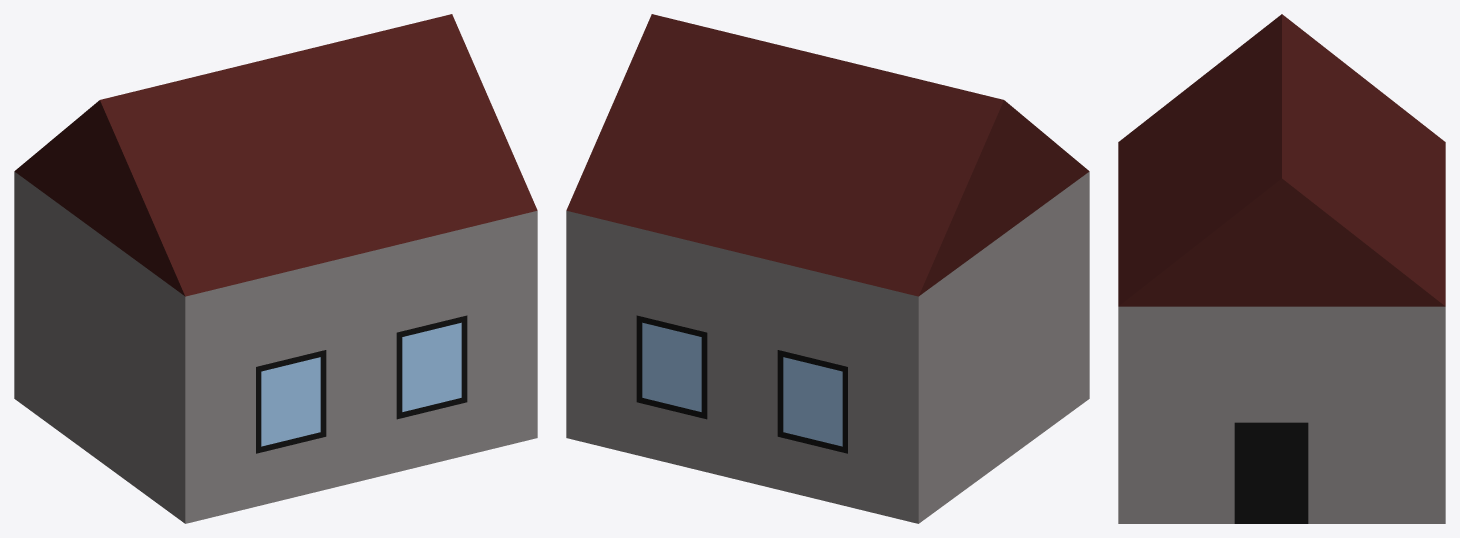
The model's file is House.fbx.
3 renders of one model, left to right at view 1: azimuth 30°, elevation 25°; view 2: azimuth 150°, elevation 25°; view 3: azimuth 270°, elevation 25°, orthographic. The views are drawn at different scales.
Parts seen in each view (by area): view 1: Plane006, Box001, Box003, Box005; view 2: Plane006, Box005, Box003, Box001; view 3: Plane006, Box004, Box005, Box001.
Boxes of the visible parts, x1,y1,x2,y2 form: Plane006: [14, 14, 537, 296]; Box001: [175, 210, 537, 523]; Box003: [25, 179, 174, 515]; Box005: [14, 171, 24, 406]; Plane006: [566, 14, 1089, 296]; Box005: [566, 210, 928, 523]; Box003: [929, 179, 1078, 515]; Box001: [1079, 171, 1089, 406]; Plane006: [1118, 14, 1445, 306]; Box004: [1138, 306, 1425, 523]; Box005: [1425, 306, 1445, 523]; Box001: [1118, 306, 1138, 523].
Bounding box in the file's own units: 435 × 426 × 366.
